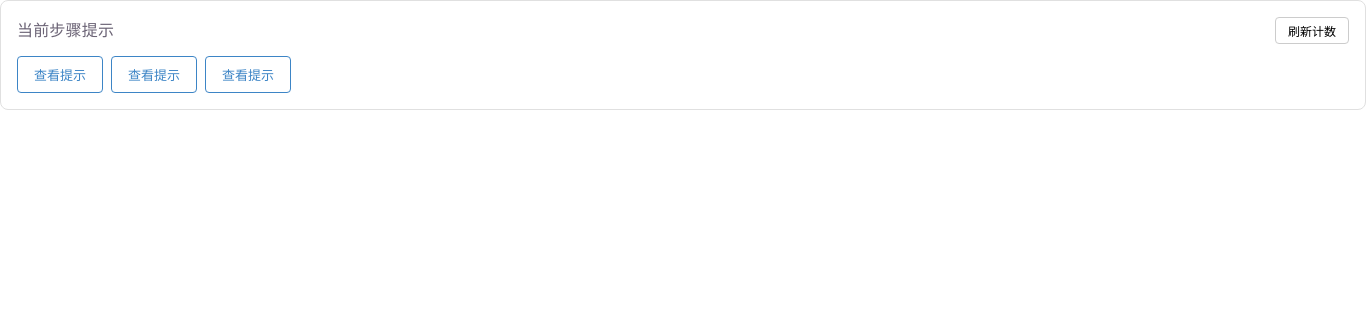
Test: CurrentStepHintPanel › should show hint content on button click
Click the button with test id "hint-btn-hint-task-intro-1": (60, 74) [17,56,103,93]
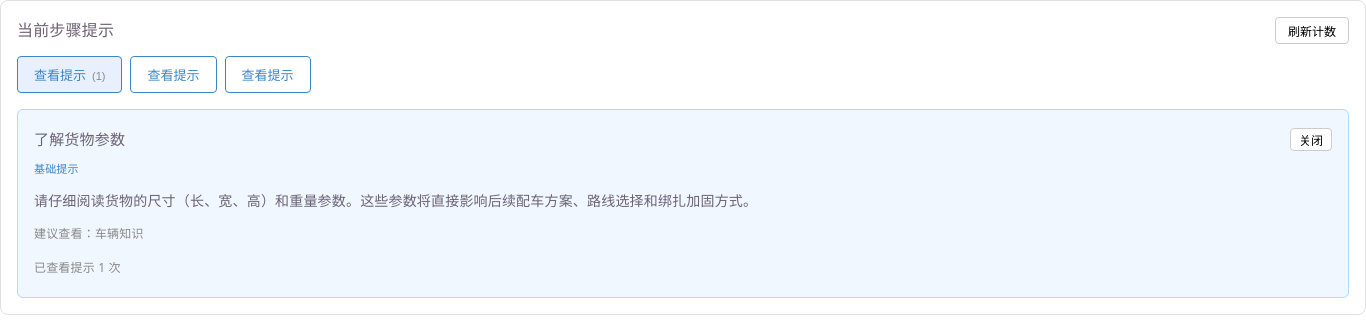
Now the element with test id "hint-content-hint-task-intro-1" is shown, box [17,109,1349,298]
